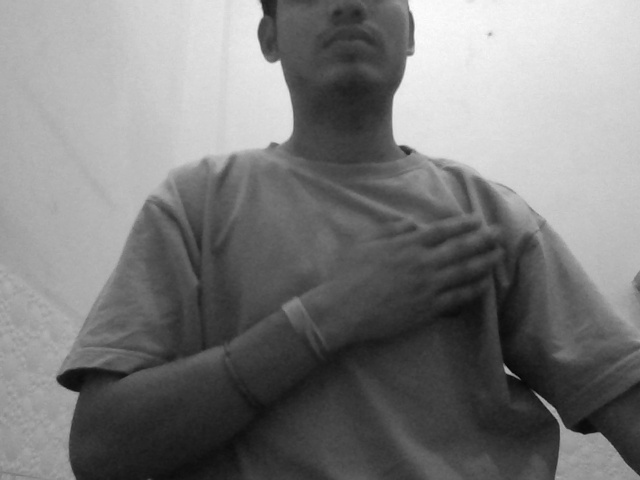Sorry: (322, 197, 531, 356)
